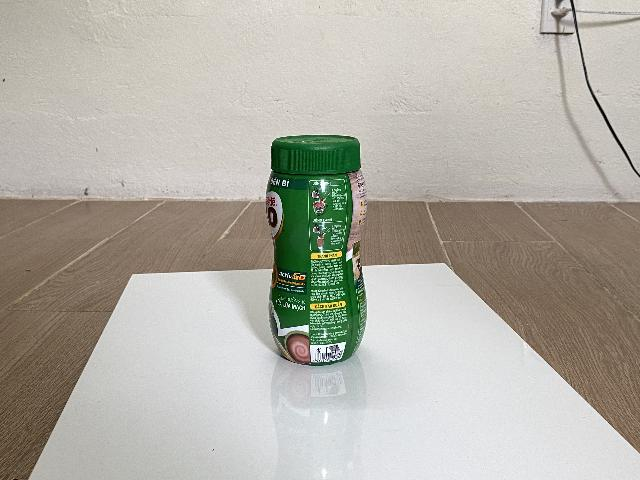milo: (264, 135, 367, 368)
